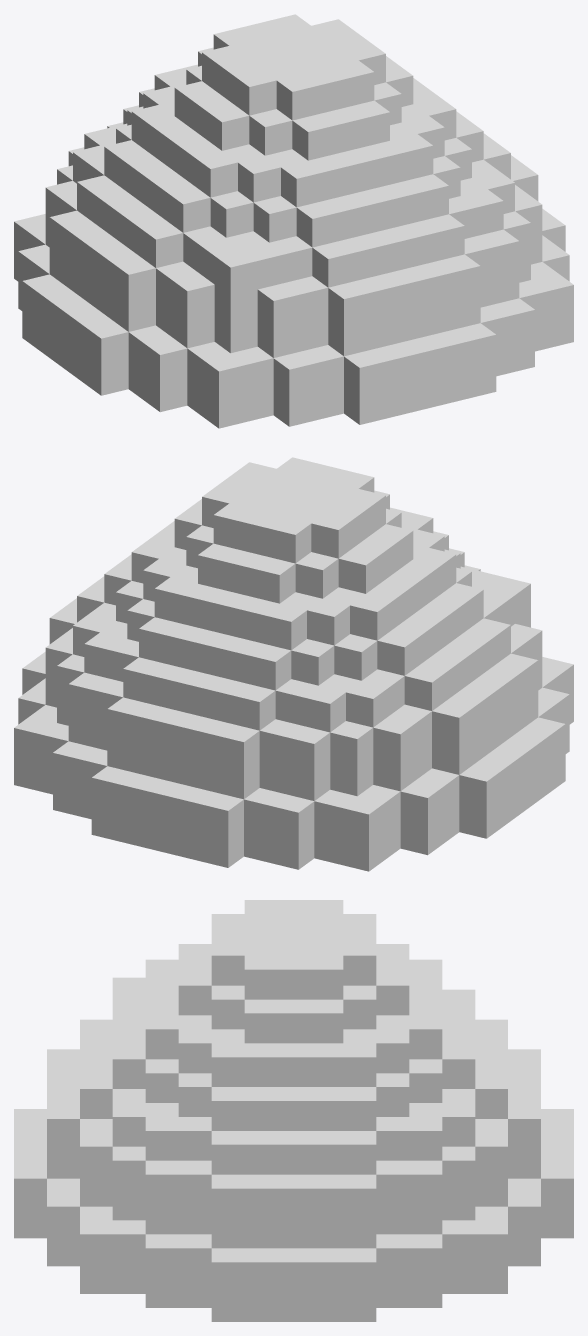
File: SmalLamp-0.obj
3 renders of one model, top to bottom at view 1: azimuth 30°, elevation 25°; view 2: azimuth 150°, elevation 25°; view 3: azimuth 270°, elevation 25°, orthographic. The views are drawn at different scales.
Size of the model in its own units: 1.7 by 0.9 by 1.7.
1 material, 1 textured.
